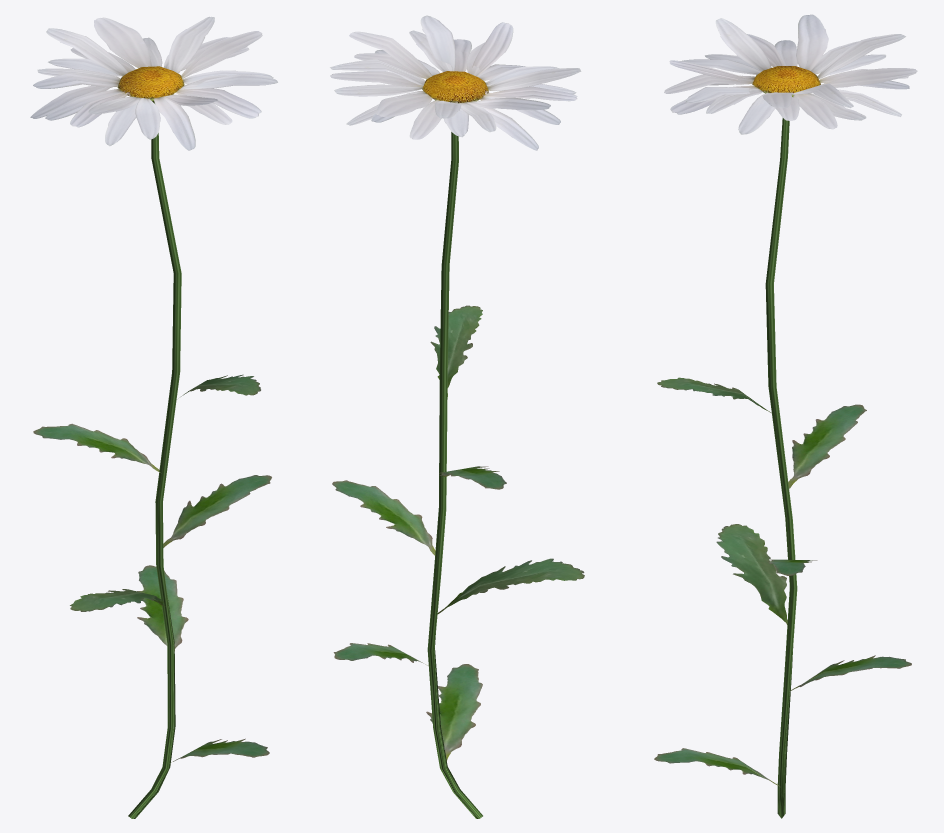
File: Daisy1.fbx
The picture shows the model from 3 angles, left to right: view 1: azimuth 30°, elevation 25°; view 2: azimuth 150°, elevation 25°; view 3: azimuth 270°, elevation 25°; orthographic projection. The views are drawn at different scales.
Visible parts, largest first — view 1: Daisy1_LOD0; view 2: Daisy1_LOD0; view 3: Daisy1_LOD0.
Part boxes in pixels (x1,y1,x2,y2): Daisy1_LOD0: [30, 16, 277, 818]; Daisy1_LOD0: [330, 15, 584, 818]; Daisy1_LOD0: [654, 14, 917, 818].
Size of what is drawn, in the model's own units: 23.71 by 65.36 by 22.55.
